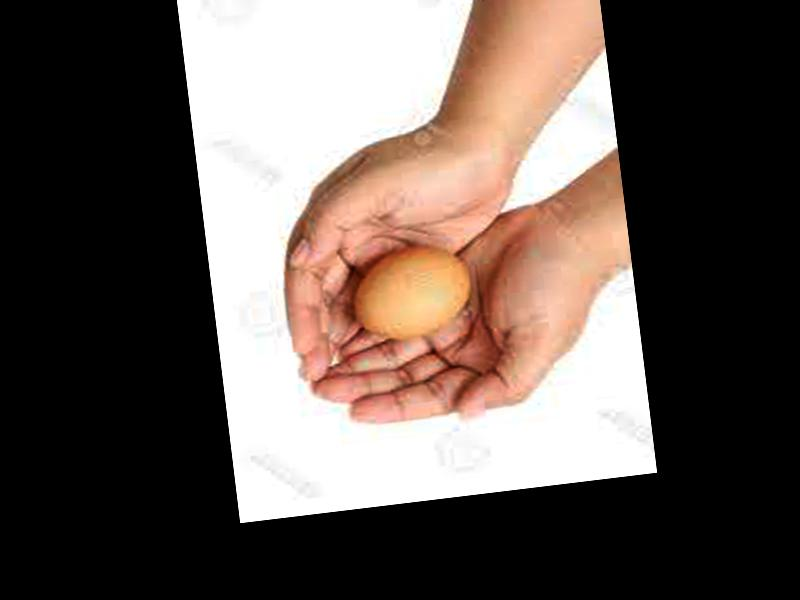Eggs: (351, 241, 473, 341)
